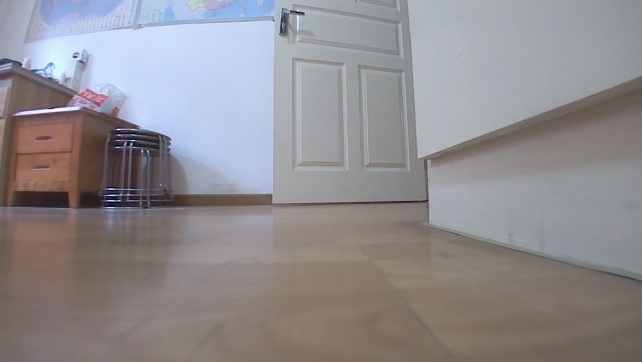cabinet: (3, 102, 140, 210)
door_anno: (270, 0, 430, 205)
